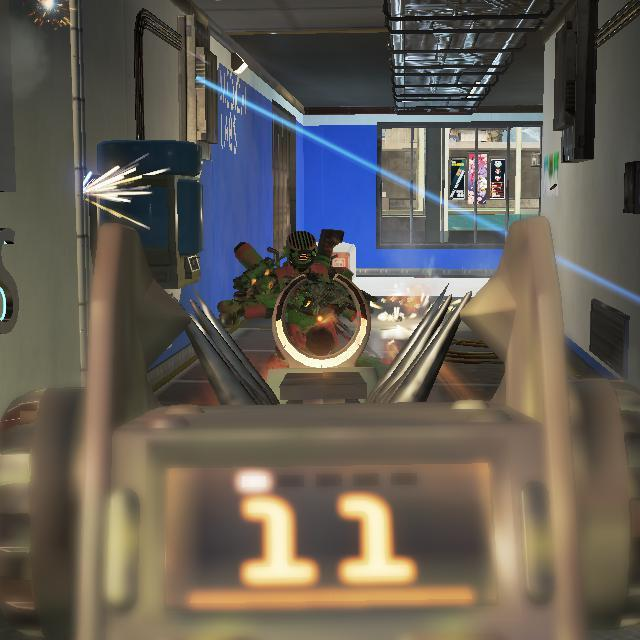avatar: (214, 227, 370, 350)
